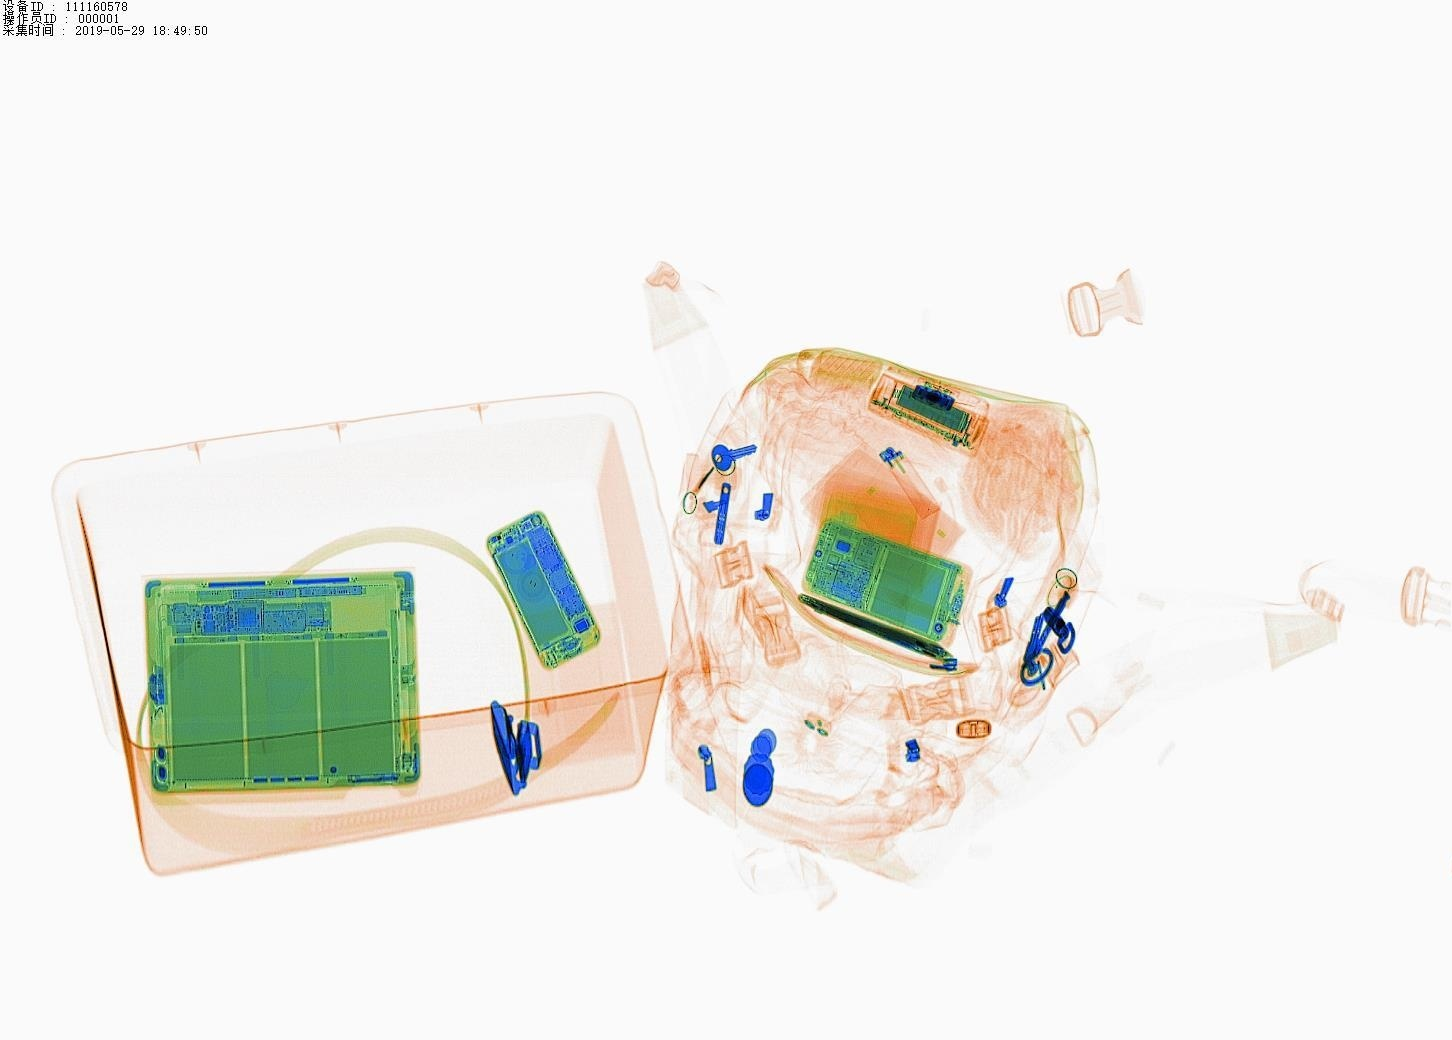NonmetallicFire: (868, 442, 963, 537)
